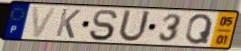3: (158, 13, 183, 43)
K: (54, 7, 83, 40)
Q: (184, 13, 215, 46)
S: (88, 8, 120, 42)
U: (117, 8, 153, 44)
V: (31, 5, 59, 39)
